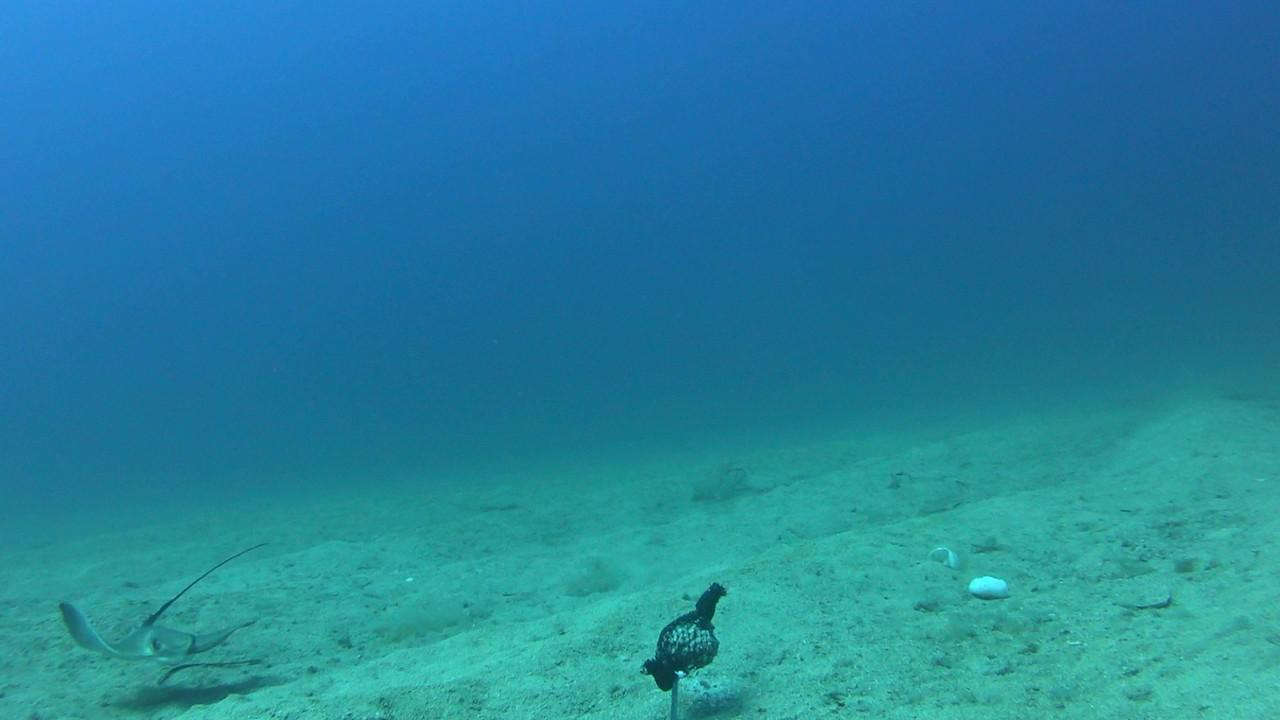myliobatis: (56, 534, 274, 667)
